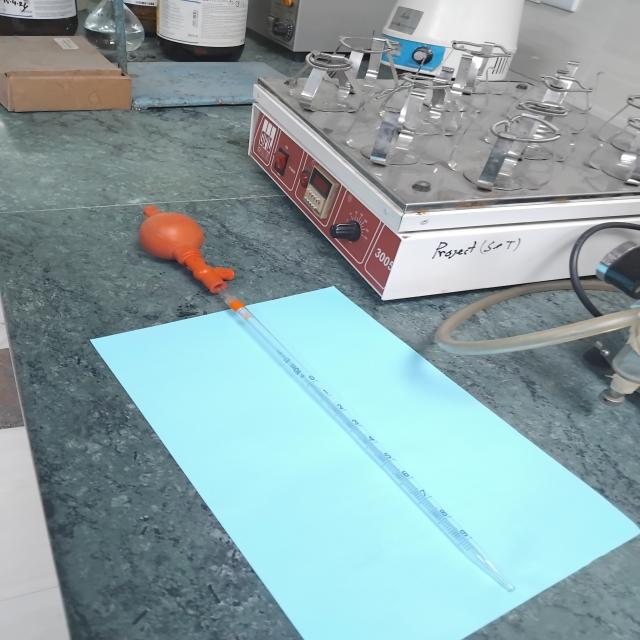Volumetric_Pipet: (99, 169, 538, 619)
